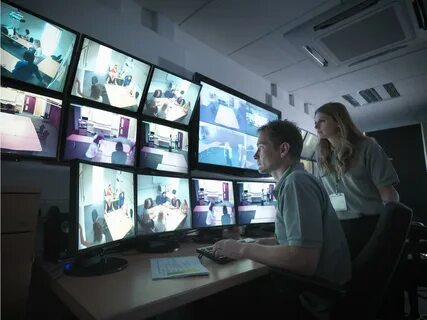awake: (236, 119, 351, 282), (312, 101, 400, 241)
